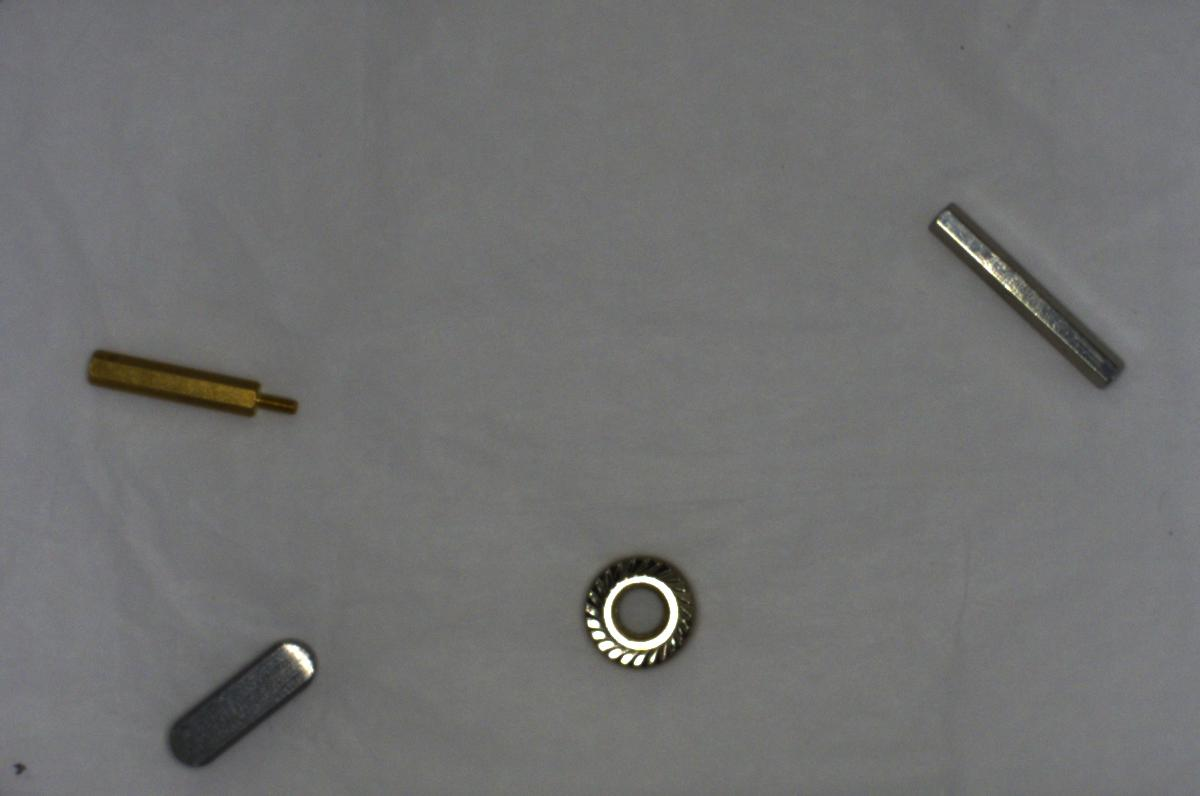Double hexagonal column: (924, 203, 1132, 395)
Flange nut: (570, 550, 699, 679)
Hexagon pillar: (78, 342, 305, 428)
Keybar: (155, 632, 322, 781)
